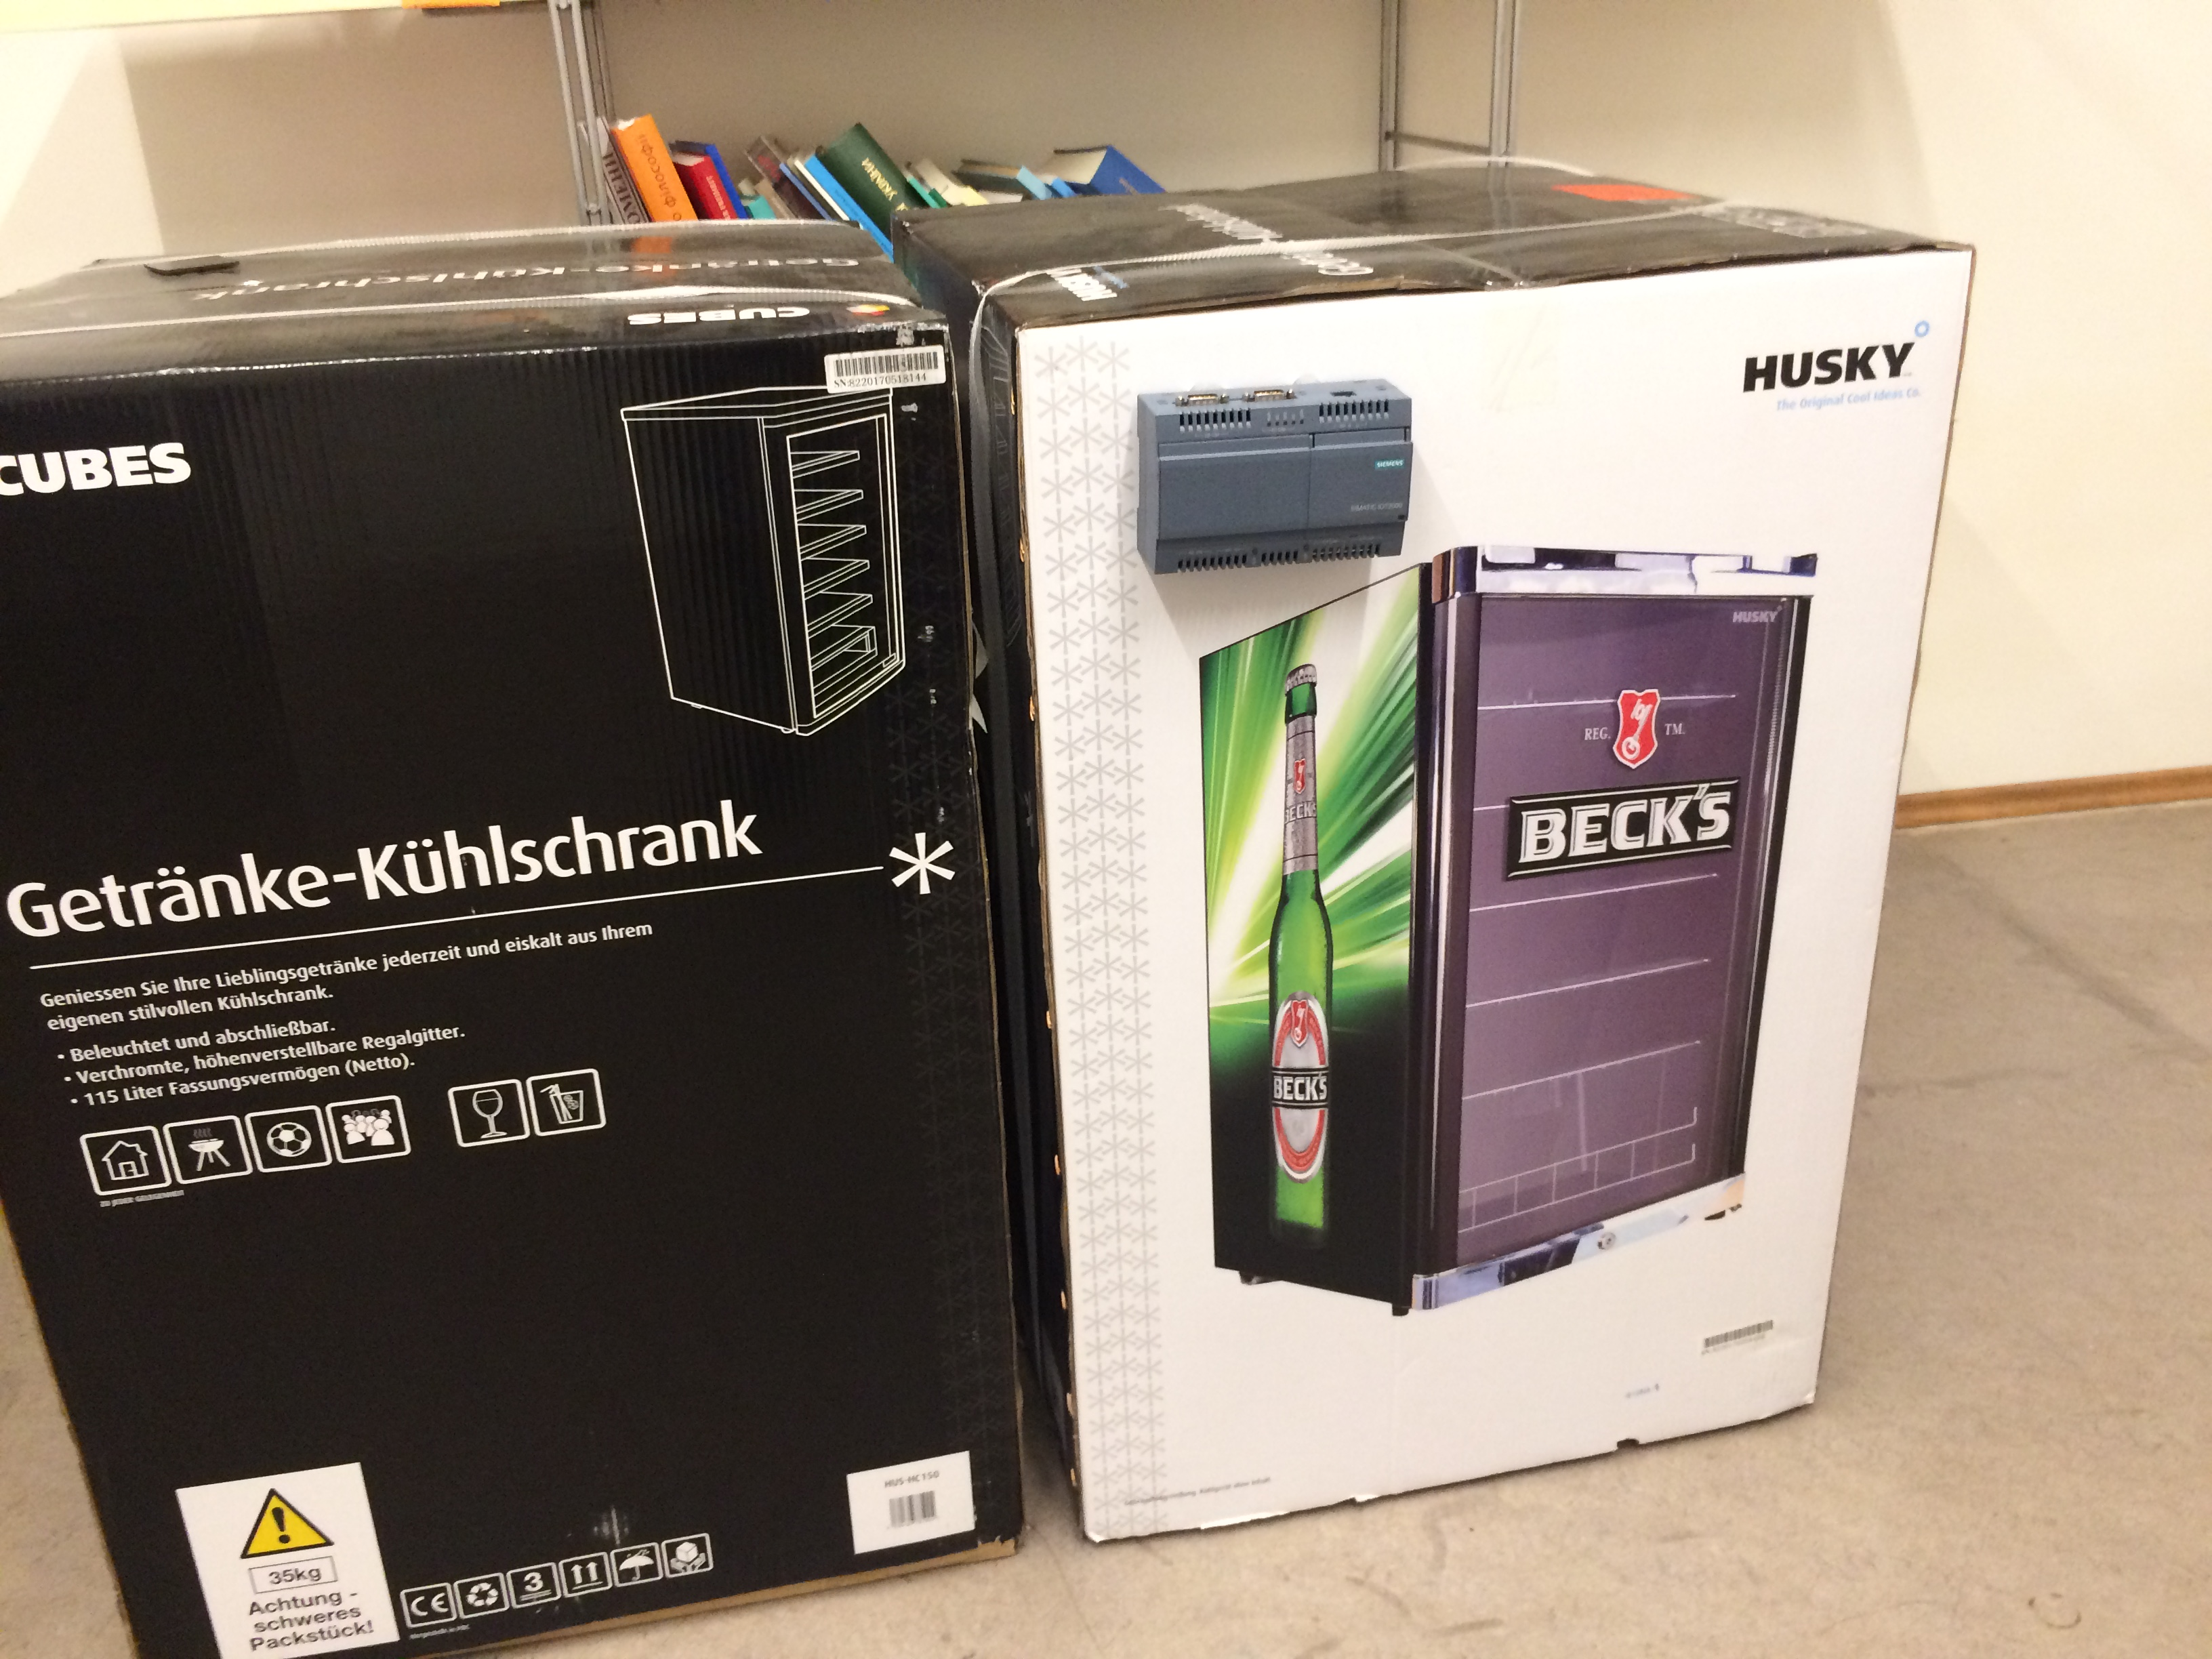iot2000: (1132, 376, 1414, 579)
